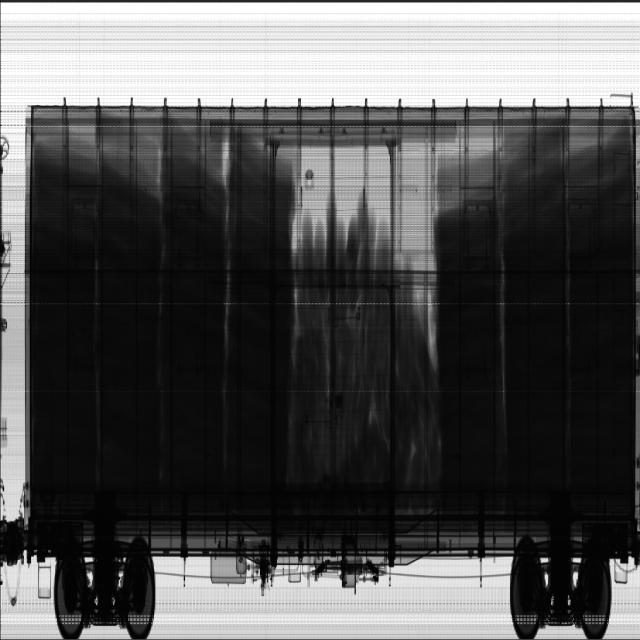textiles: (31, 114, 293, 502), (435, 119, 633, 508), (295, 191, 438, 503)
